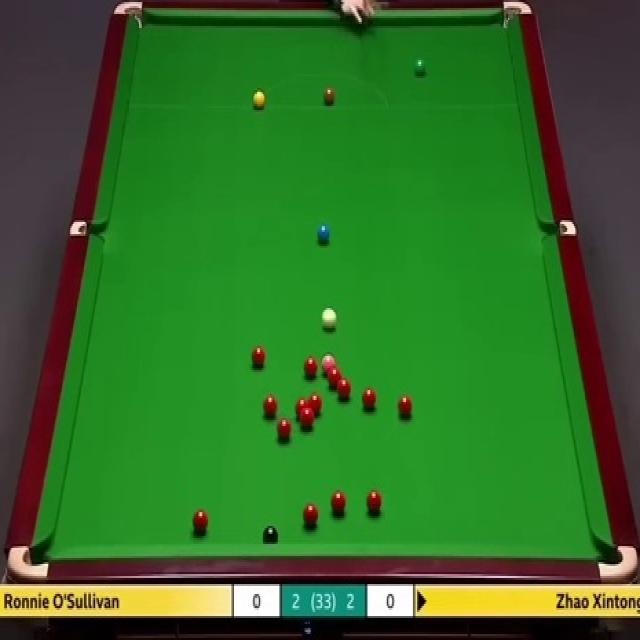black-ball: (262, 526, 279, 545)
blue-ball: (316, 220, 330, 245)
brown-ball: (323, 88, 335, 106)
green-ball: (412, 58, 427, 78)
pink-ball: (323, 354, 336, 376)
red-ball: (192, 509, 209, 534), (366, 489, 382, 515), (331, 491, 346, 516), (361, 387, 376, 412), (263, 394, 278, 418), (304, 503, 318, 528), (398, 394, 412, 418), (337, 378, 351, 401), (252, 346, 266, 368), (328, 366, 342, 388), (295, 396, 309, 418), (308, 394, 322, 415), (278, 419, 291, 440), (304, 359, 318, 378), (301, 410, 314, 430)
white-ball: (322, 308, 337, 330)
yellow-ball: (252, 89, 265, 109)
